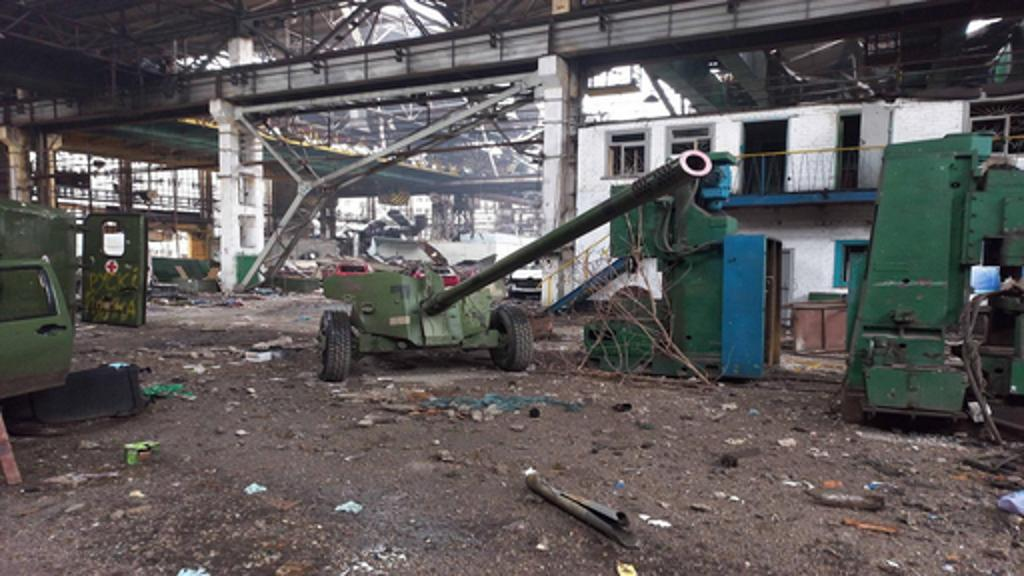ART: (316, 148, 710, 380)
